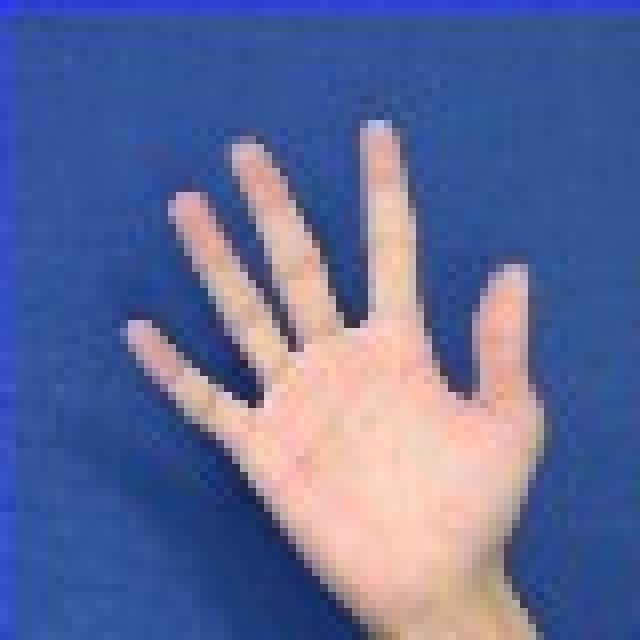hand: (94, 84, 609, 640)
